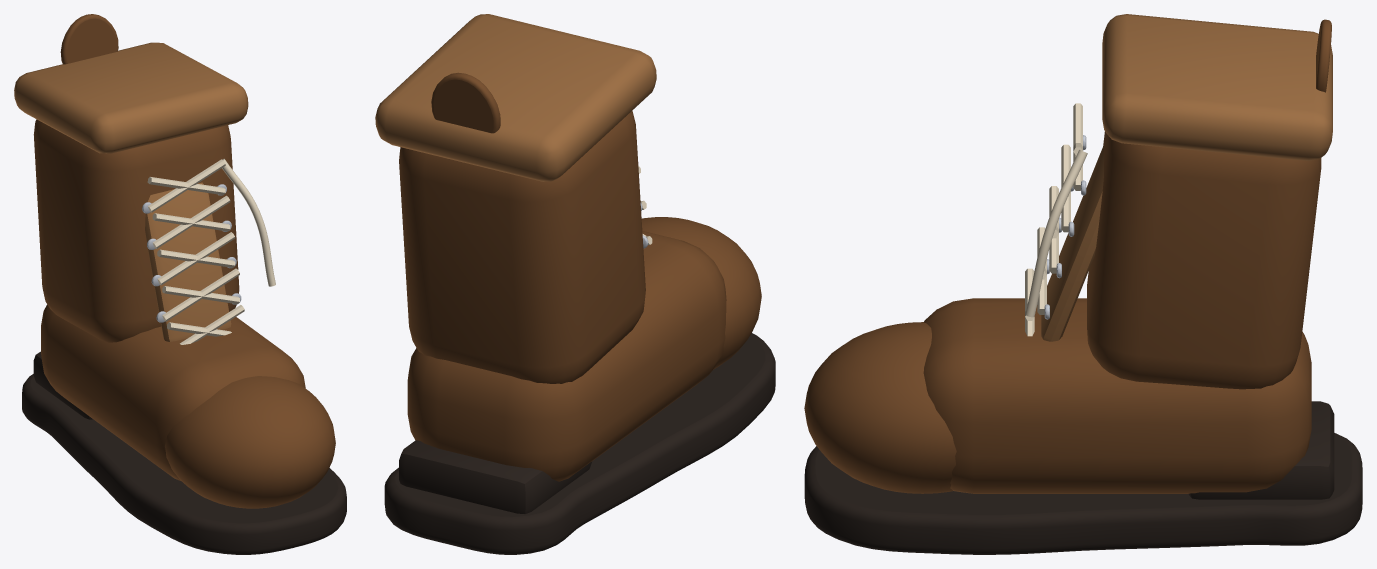
Rendered from OldBoot.fbx.
The picture shows the model from 3 angles, left to right: view 1: azimuth 30°, elevation 25°; view 2: azimuth 150°, elevation 25°; view 3: azimuth 270°, elevation 25°; orthographic projection. The views are drawn at different scales.
Visible parts, largest first — view 1: Leather, Worn, Sole, Laces, Steel; view 2: Leather, Sole, Worn; view 3: Leather, Sole, Worn, Laces.
Part boxes in pixels (left/top/right/bottom): Leather: left=33, top=14, right=335, bottom=508; Worn: left=14, top=42, right=248, bottom=341; Sole: left=22, top=351, right=346, bottom=554; Laces: left=147, top=158, right=275, bottom=344; Steel: left=142, top=184, right=241, bottom=322; Leather: left=399, top=72, right=761, bottom=481; Sole: left=384, top=333, right=775, bottom=554; Worn: left=375, top=14, right=656, bottom=181; Leather: left=804, top=19, right=1331, bottom=493; Sole: left=804, top=401, right=1362, bottom=554; Worn: left=1041, top=14, right=1332, bottom=341; Laces: left=1025, top=103, right=1087, bottom=336.
Bounding box in the file's own units: 95.7 × 199 × 208.
